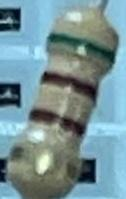Brown: (29, 104, 87, 141), (40, 68, 99, 102)
Green: (47, 31, 116, 65)
Side-Gold: (9, 142, 79, 185)
